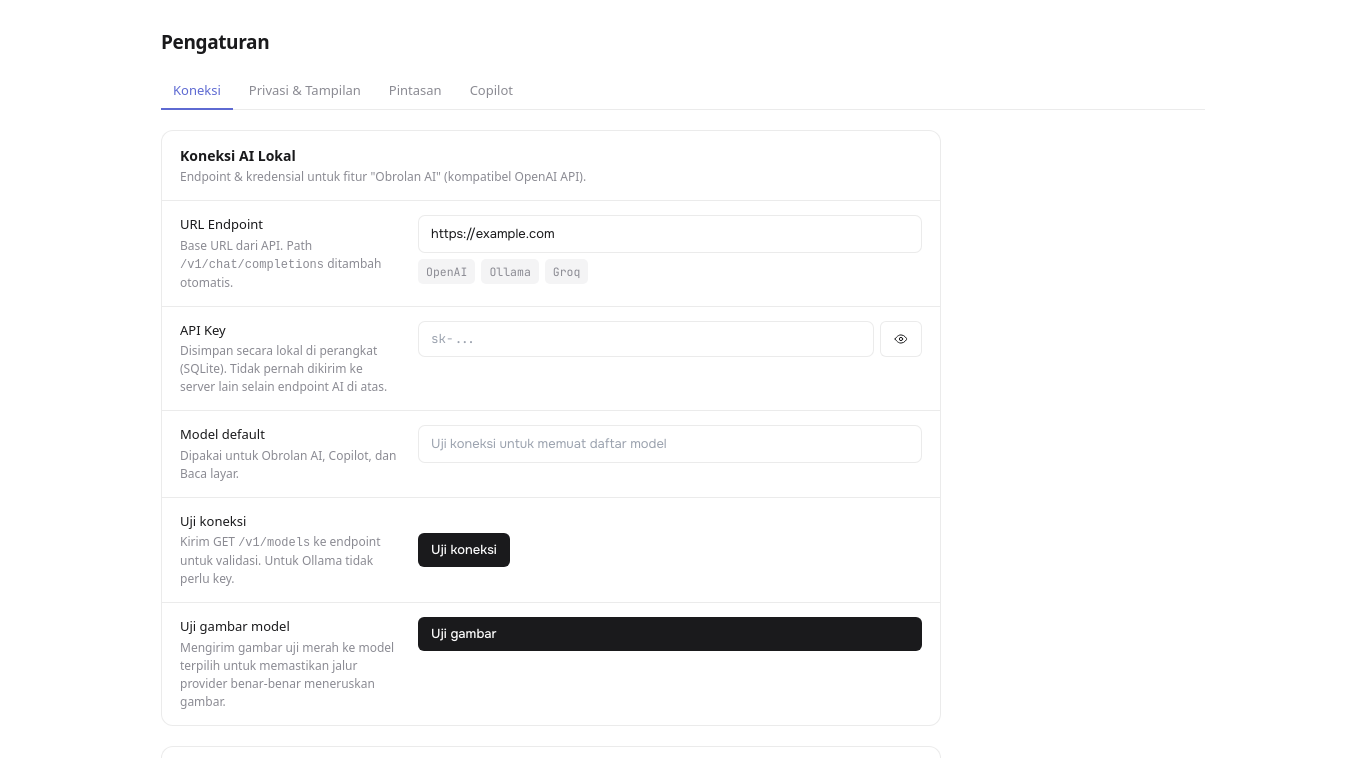
Test case: AI model selection › opens the returned models without preselecting one, then selects a model
Click the button "Uji koneksi". click: (464, 550)
box: [418,533,510,566]
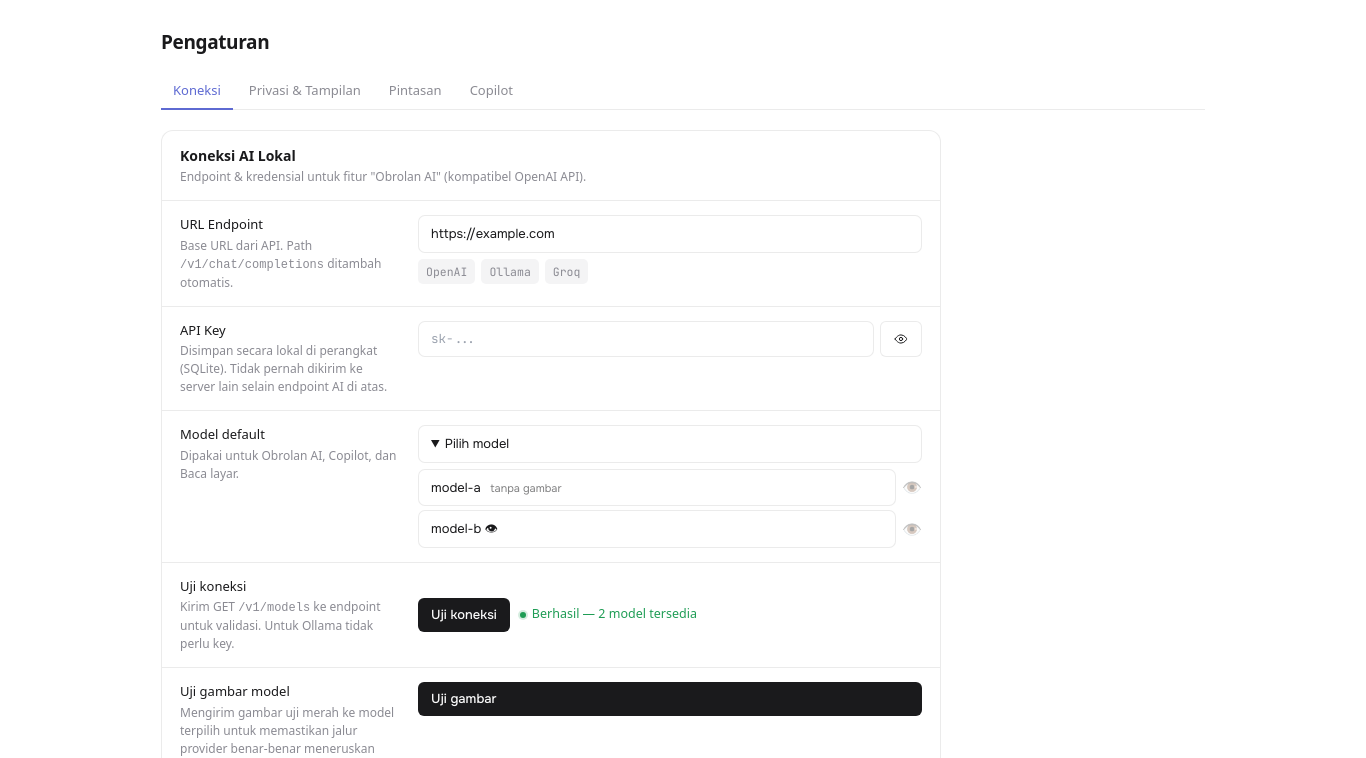
Check: the button "model-b 👁" is shown
Check: the button "model-a tanpa gambar" is shown, box [418,468,896,506]
Click the button "model-b 👁". click: (458, 528)
box: [418,510,896,548]
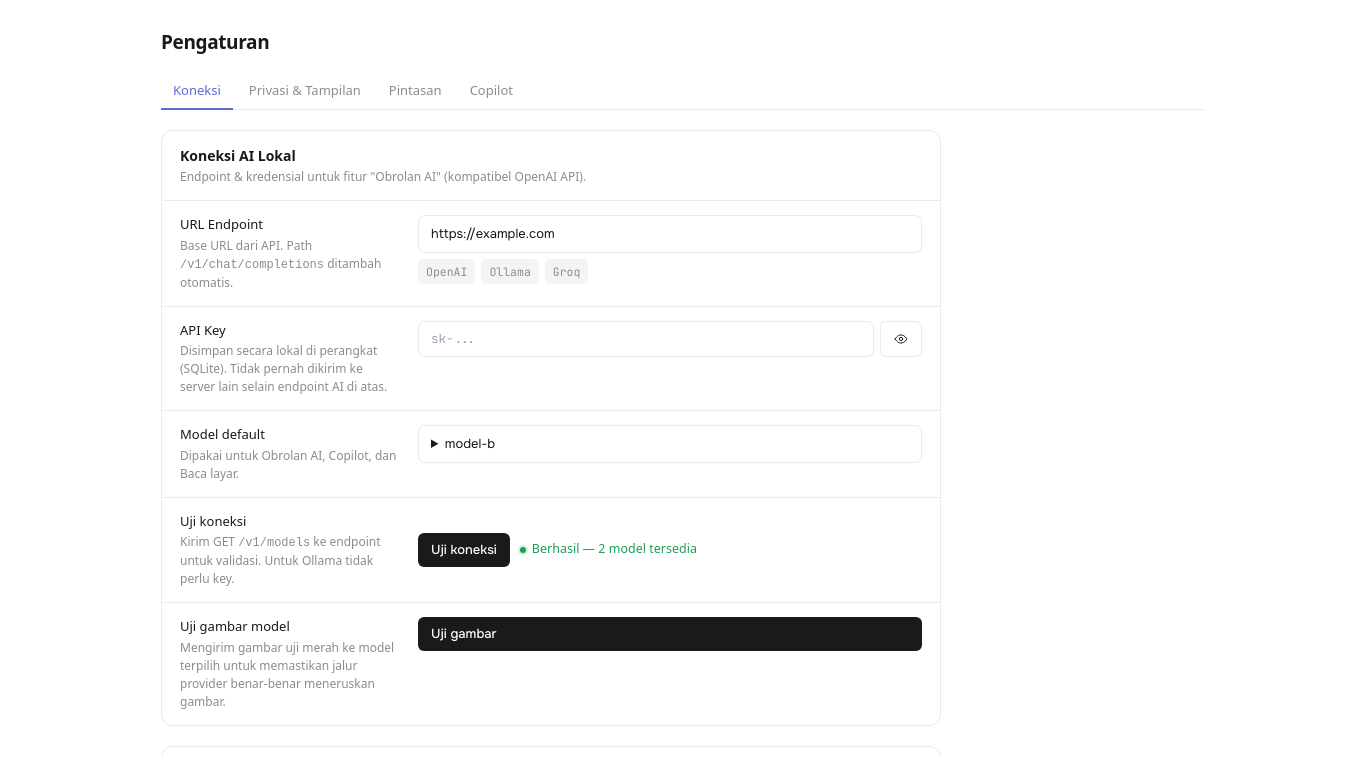
Check: the heading "model-b" is shown, box [418,425,922,462]
